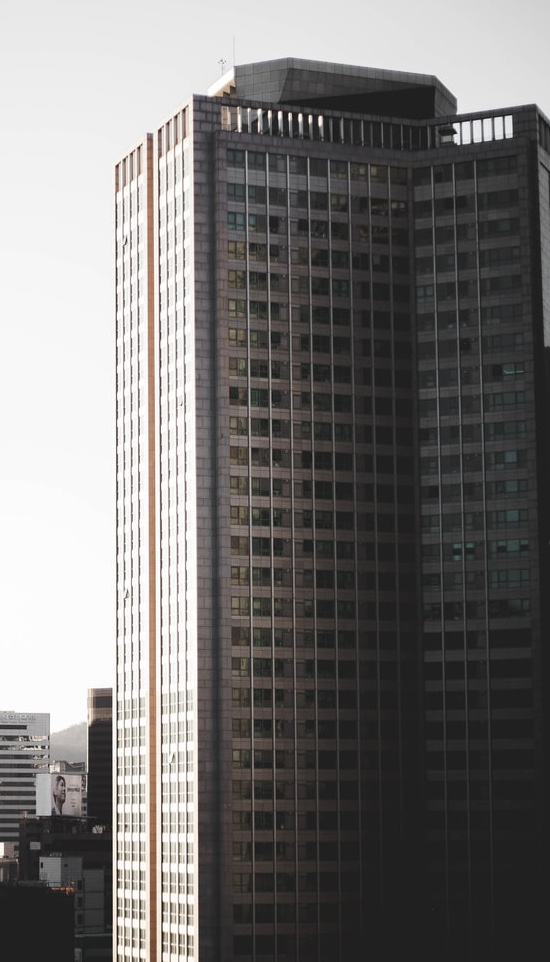Sky Building: (94, 73, 550, 962)
